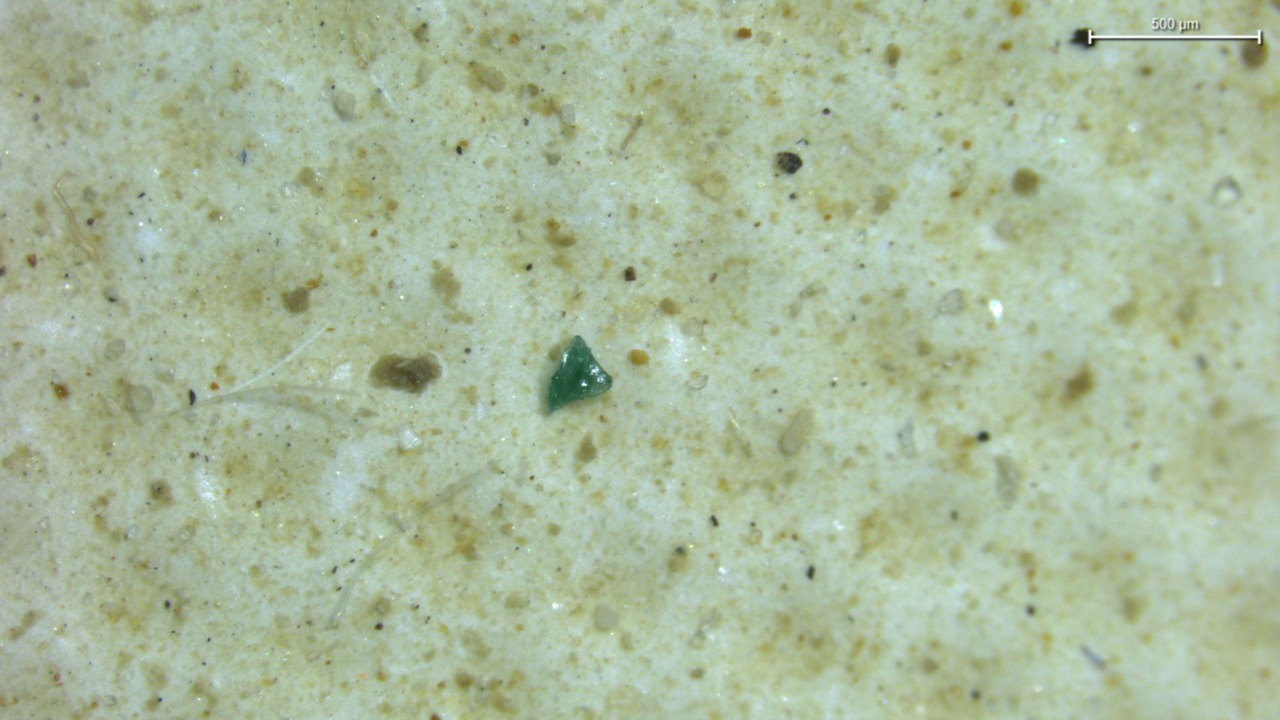microplastic_fragment: (547, 335, 612, 413)
